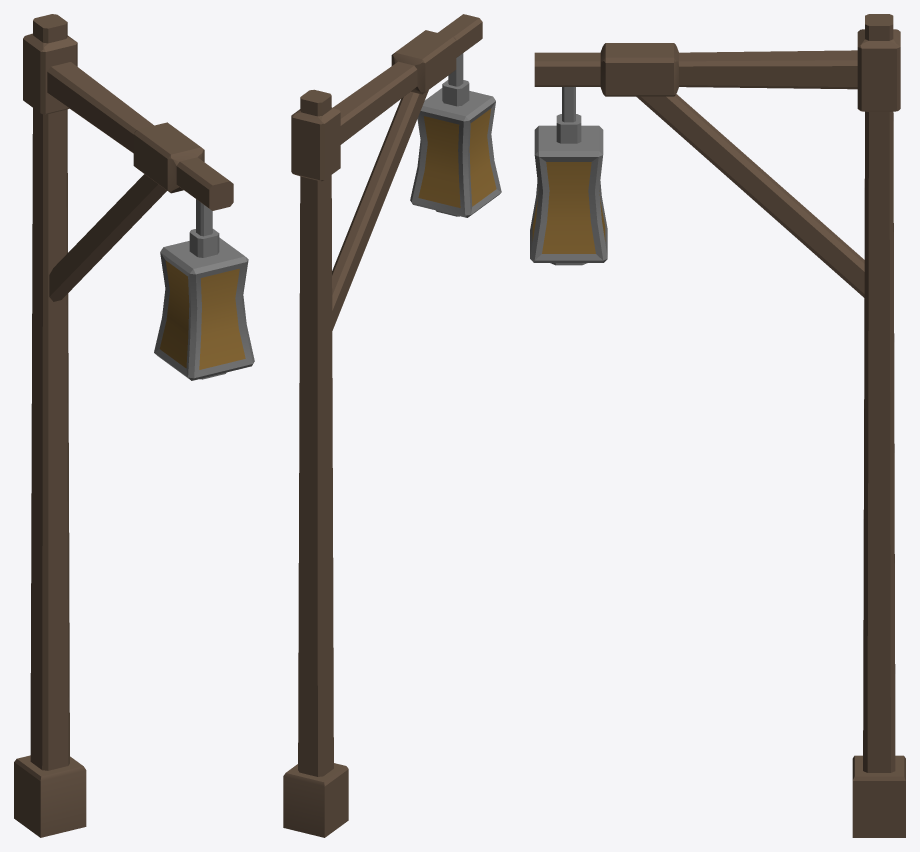
The model's file is streetlight_a002.glb.
3 renders of one model, left to right at view 1: azimuth 30°, elevation 25°; view 2: azimuth 150°, elevation 25°; view 3: azimuth 270°, elevation 25°, orthographic. The views are drawn at different scales.
Visible parts, largest first — view 1: streetlight_a002; view 2: streetlight_a002; view 3: streetlight_a002.
Boxes of the visible parts, x1,y1,x2,y2 form: streetlight_a002: (14,14,254,837); streetlight_a002: (283,14,501,837); streetlight_a002: (530,14,905,837).
Bounding box in the file's own units: 0.1676 × 1.92 × 0.8104.
Materials: 1 (1 with a texture image).
